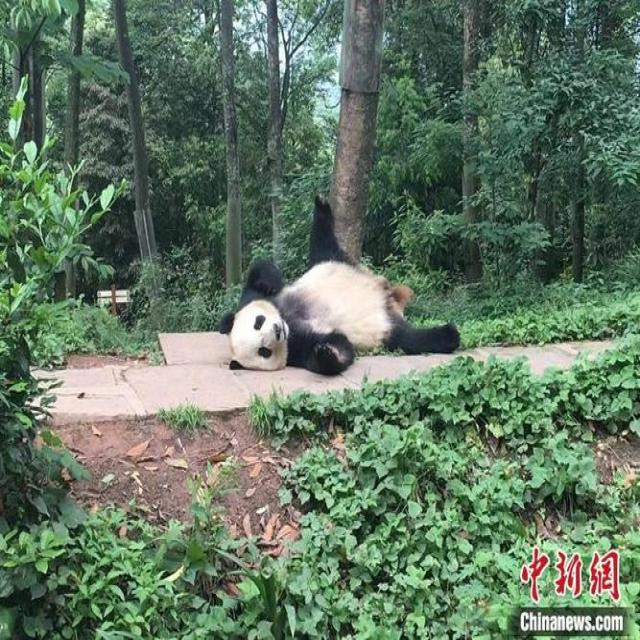panda: (213, 206, 444, 426)
